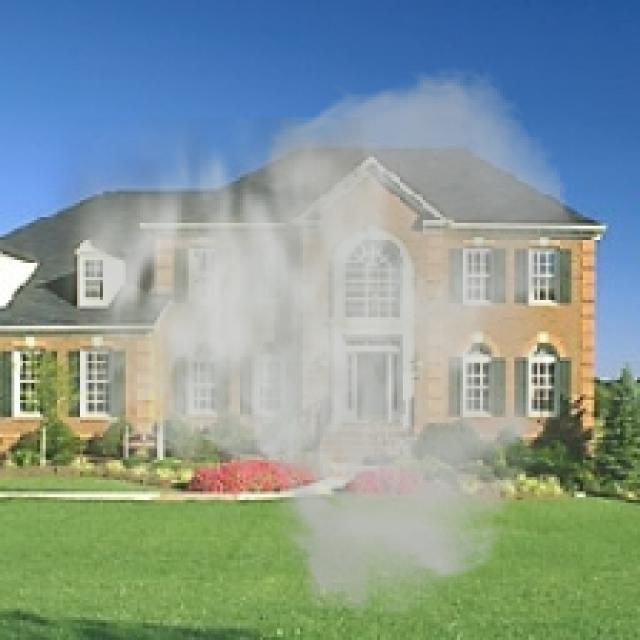smoke: (37, 63, 577, 620)
